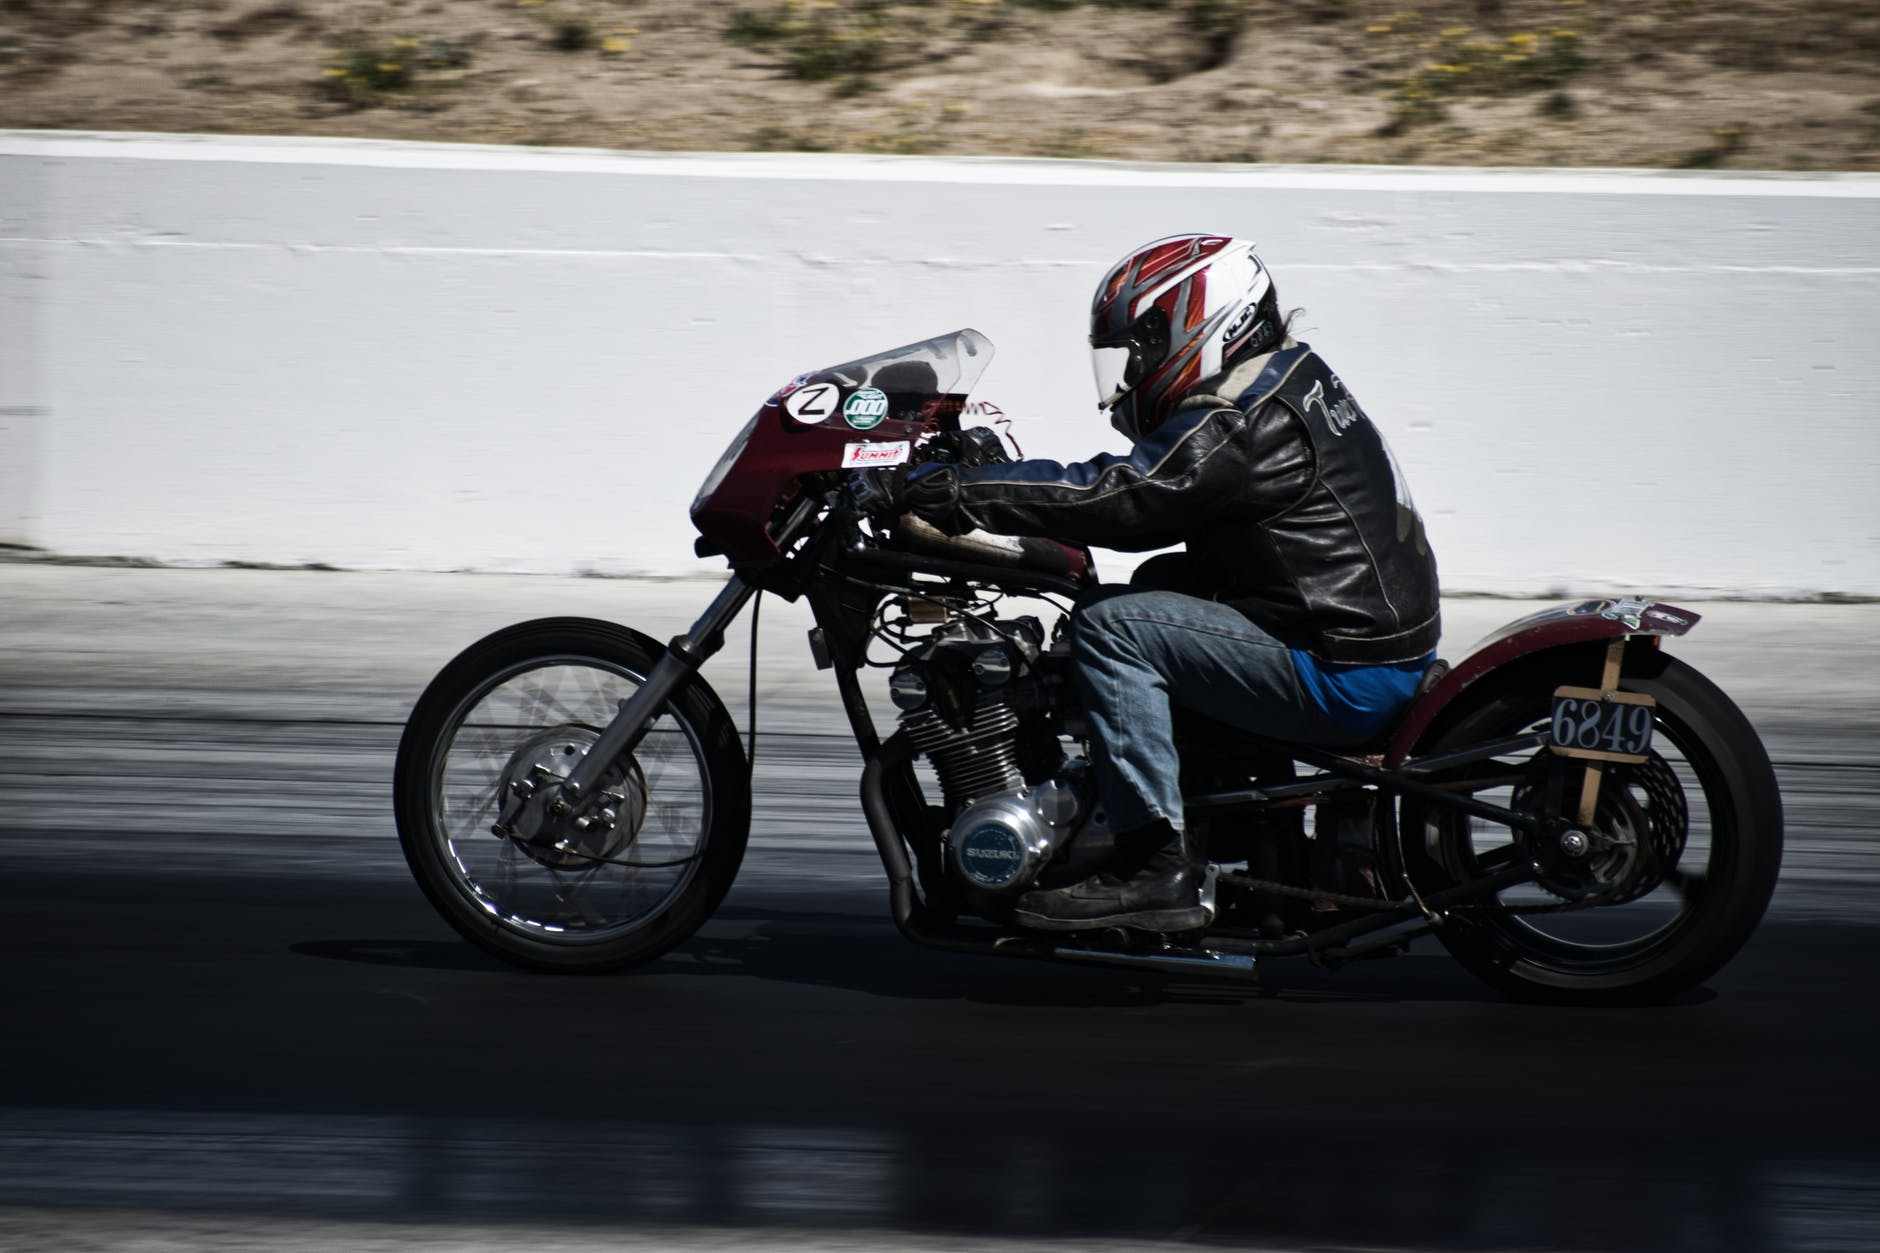helmet: (1085, 232, 1299, 407)
